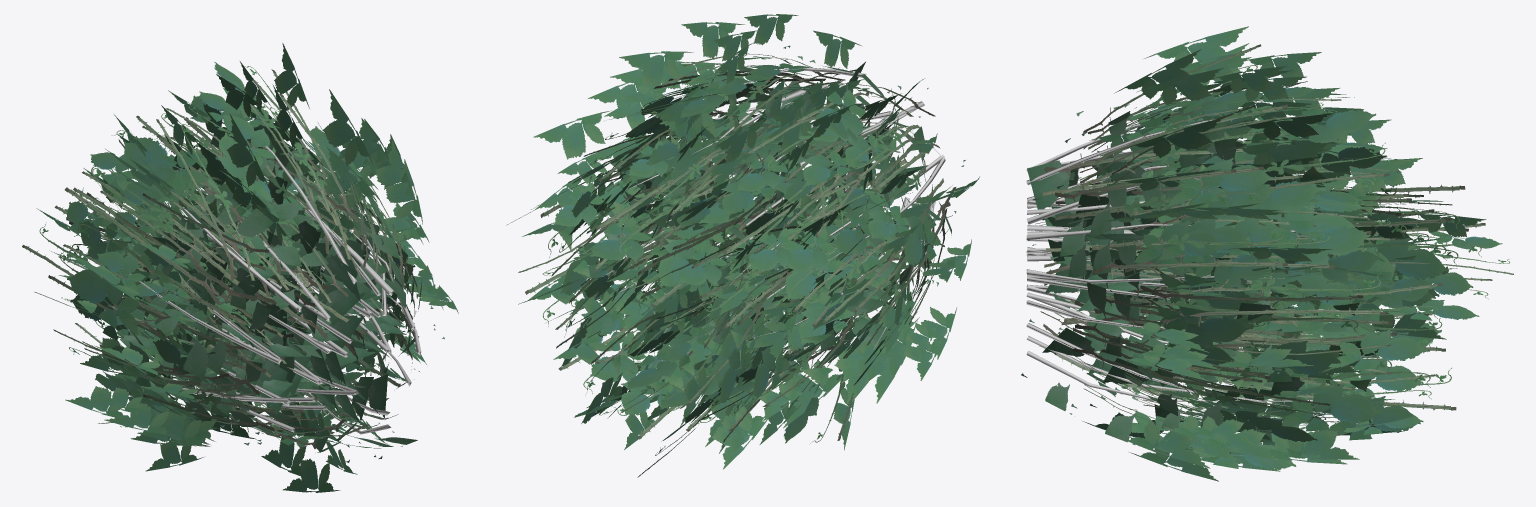
File: Bush_0031.FBX
3 renders of one model, left to right at view 1: azimuth 30°, elevation 25°; view 2: azimuth 150°, elevation 25°; view 3: azimuth 270°, elevation 25°, orthographic. The views are drawn at different scales.
Parts seen in each view (by area): view 1: plant1_LOD0; view 2: plant1_LOD0; view 3: plant1_LOD0.
Boxes of the visible parts, x1,y1,x2,y2 form: plant1_LOD0: [22, 43, 458, 492]; plant1_LOD0: [506, 14, 979, 477]; plant1_LOD0: [1021, 26, 1513, 481].
Bounding box in the file's own units: 47.32 × 53.49 × 47.94.
